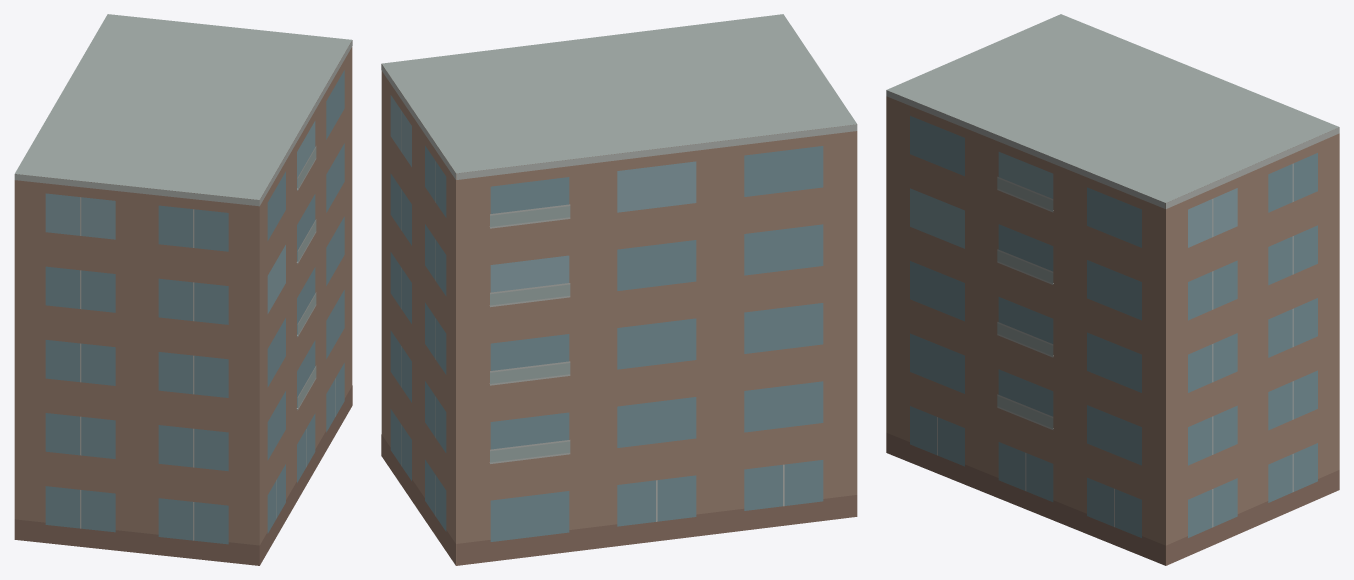
Rendered from survey-upis-32663883.glb.
3 renders of one model, left to right at view 1: azimuth 30°, elevation 25°; view 2: azimuth 150°, elevation 25°; view 3: azimuth 270°, elevation 25°, orthographic. The views are drawn at different scales.
Parts seen in each view (by area): view 1: survey-upis-32663883.tmp; view 2: survey-upis-32663883.tmp; view 3: survey-upis-32663883.tmp.
Part boxes in pixels (x1,y1,x2,y2): survey-upis-32663883.tmp: (14,14,352,565); survey-upis-32663883.tmp: (381,14,857,565); survey-upis-32663883.tmp: (886,14,1339,565).
Size of the model in its own units: 15.99 by 14.3 by 16.2.
